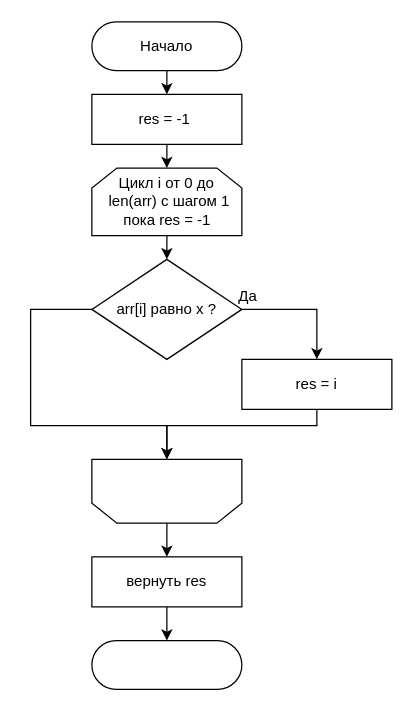
Some shapes in this 414 by 711 pixel diagram are drawn without their labels. Here are the shapes that lost their labels. From the top down, the centre of each, then its label:
At (166,490): "Конец цикла по i".
At (166,664): "Конец".
